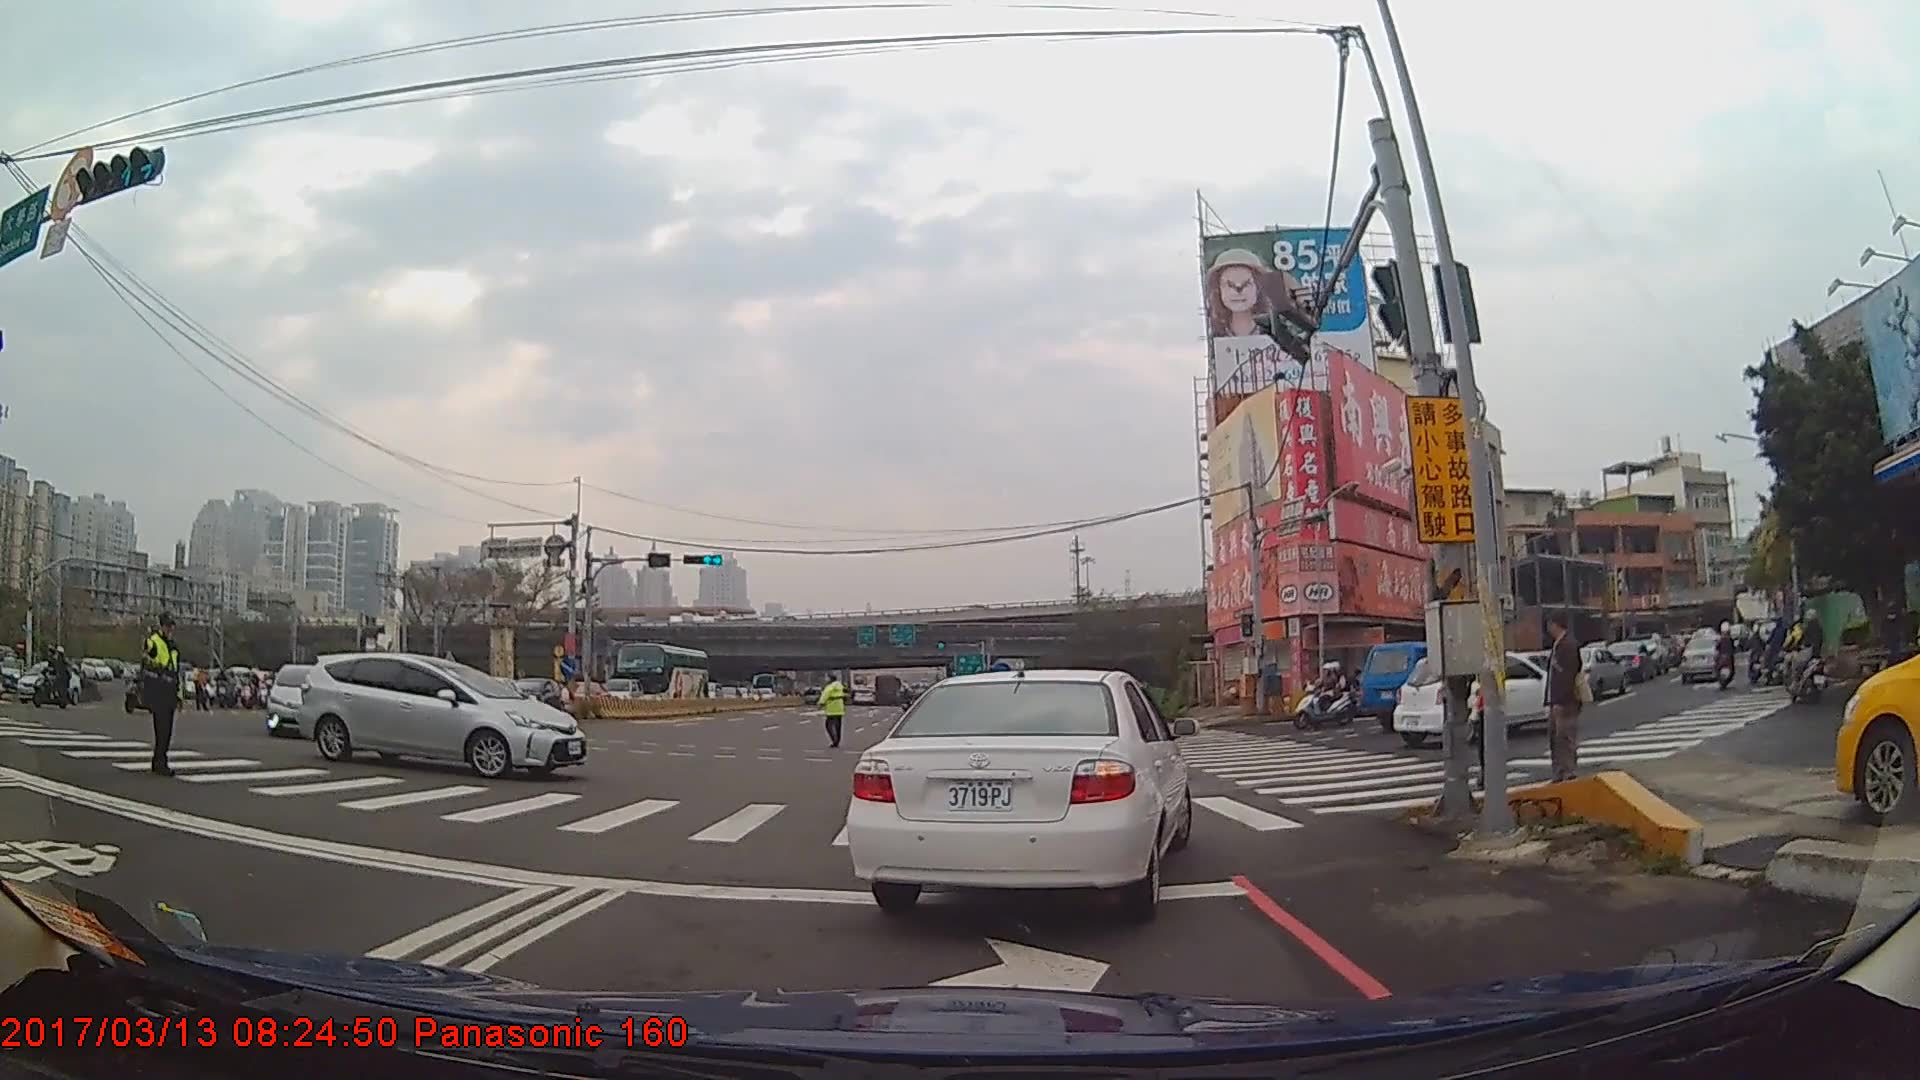pedestrian: (1535, 611, 1591, 783), (131, 611, 186, 779), (816, 671, 848, 753)
rider: (1294, 662, 1355, 733), (1784, 608, 1830, 700), (32, 646, 70, 710), (126, 654, 162, 716), (1712, 623, 1741, 693), (1768, 618, 1795, 689), (1746, 622, 1768, 684)
vehicle: (847, 667, 1195, 913), (301, 650, 593, 779), (1390, 648, 1568, 750), (1837, 653, 1920, 825), (612, 640, 709, 709), (267, 661, 346, 737), (15, 657, 75, 704), (1676, 630, 1728, 682), (1602, 641, 1654, 682)
